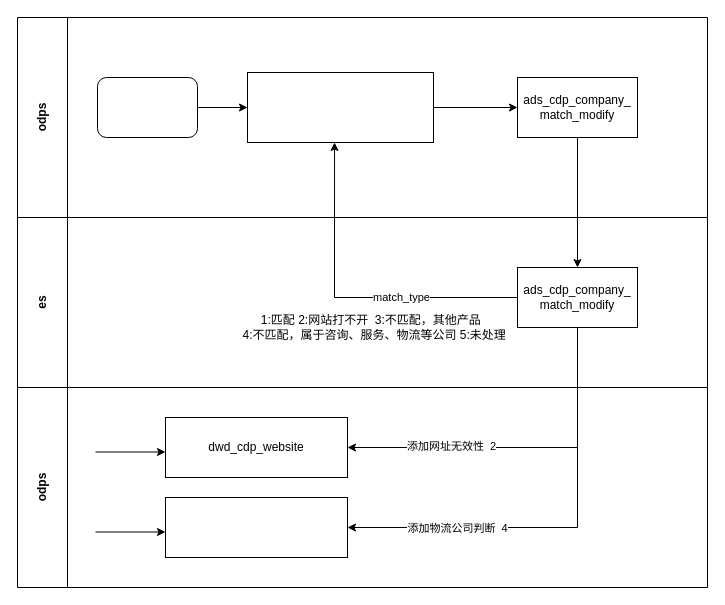
Image size: 725x605. Some labels were removed from this diagram. Here are the shapes that lost their labels. From the top down, the centre of each, then its label:
At point 147,107: "开始".
At point 340,107: "ads_cdp_company _search_for_tradechina".
At point 256,527: "dwd_cdp_company_basic".
